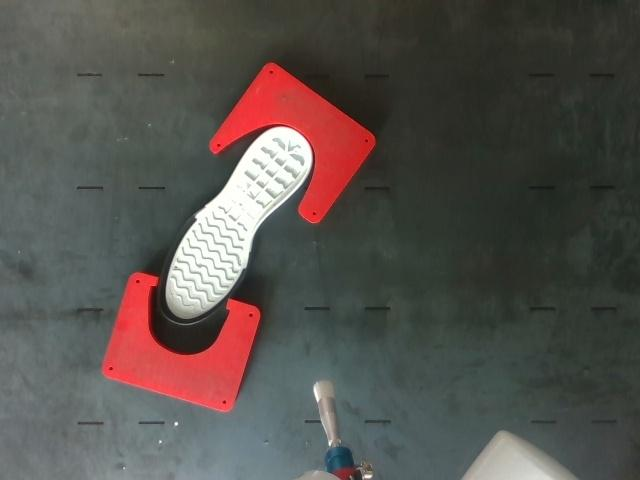shoes: (159, 128, 311, 324)
